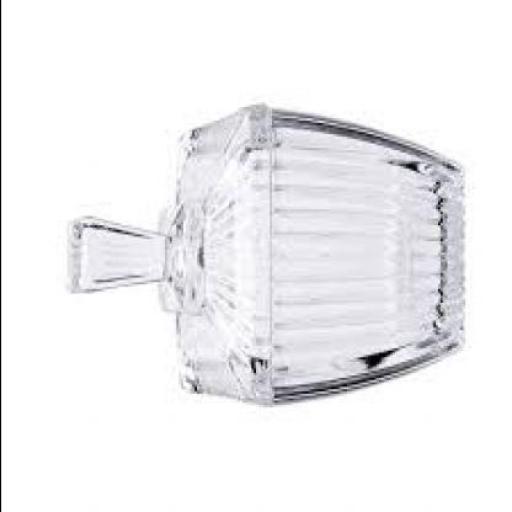glass: (64, 110, 464, 408)
